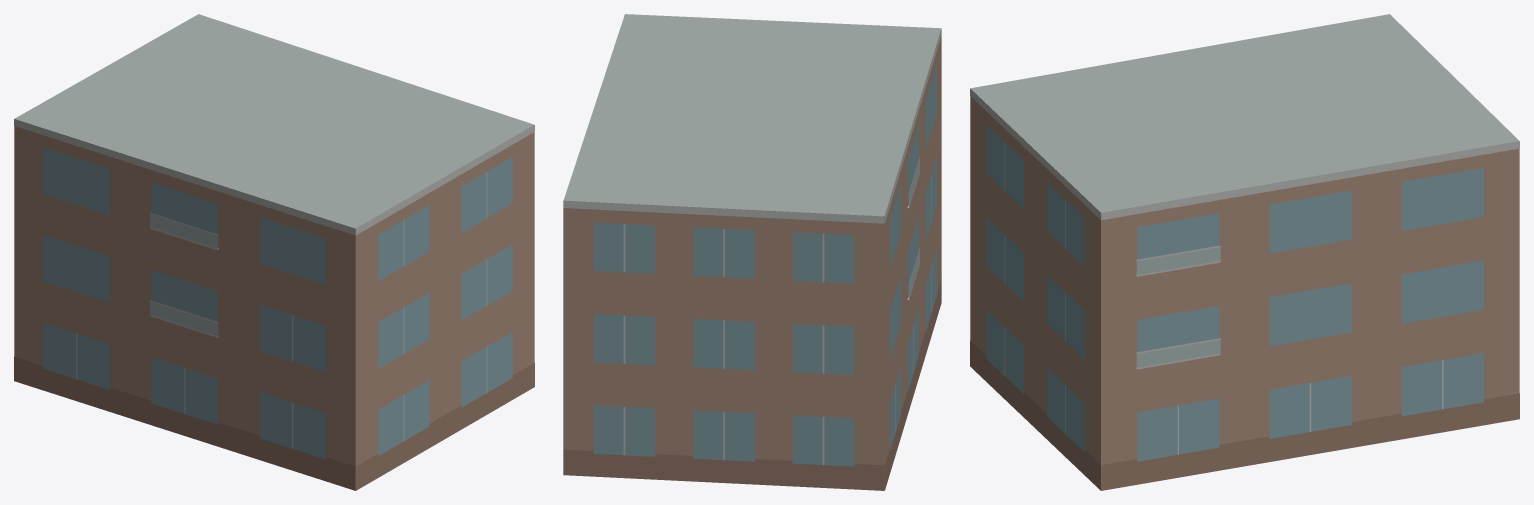
File: survey-upis-32999626.glb
The picture shows the model from 3 angles, left to right: view 1: azimuth 30°, elevation 25°; view 2: azimuth 150°, elevation 25°; view 3: azimuth 270°, elevation 25°; orthographic projection. The views are drawn at different scales.
Visible parts, largest first — view 1: survey-upis-32999626.tmp; view 2: survey-upis-32999626.tmp; view 3: survey-upis-32999626.tmp.
Part boxes in pixels (box(x1,y1,x2,y2)): survey-upis-32999626.tmp: box(14, 14, 534, 490); survey-upis-32999626.tmp: box(563, 14, 941, 490); survey-upis-32999626.tmp: box(970, 14, 1519, 490).
Bounding box in the file's own units: 14.05 × 9.15 × 16.41.
